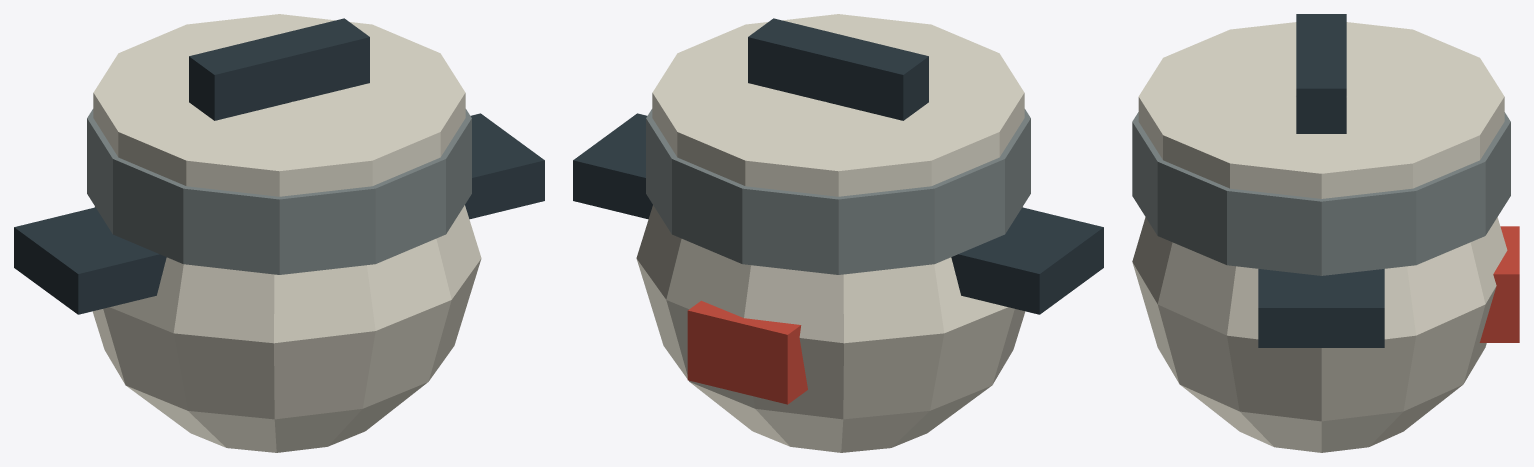
File: rice_cooker.glb
3 renders of one model, left to right at view 1: azimuth 30°, elevation 25°; view 2: azimuth 150°, elevation 25°; view 3: azimuth 270°, elevation 25°, orthographic.
Visible parts, largest first — view 1: rice_cooker; view 2: rice_cooker; view 3: rice_cooker.
Part boxes in pixels (bbox=[...]): rice_cooker: bbox=[14, 14, 544, 452]; rice_cooker: bbox=[573, 14, 1103, 452]; rice_cooker: bbox=[1132, 14, 1519, 452].
Bounding box in the file's own units: 0.42 × 0.334 × 0.307.
